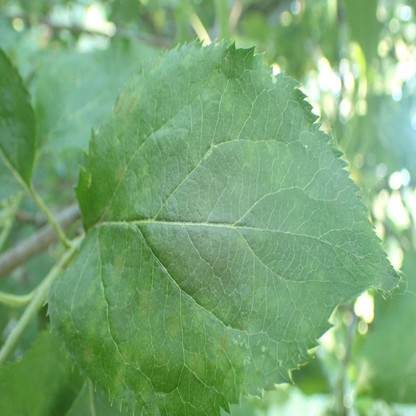scab: (63, 53, 329, 402)
